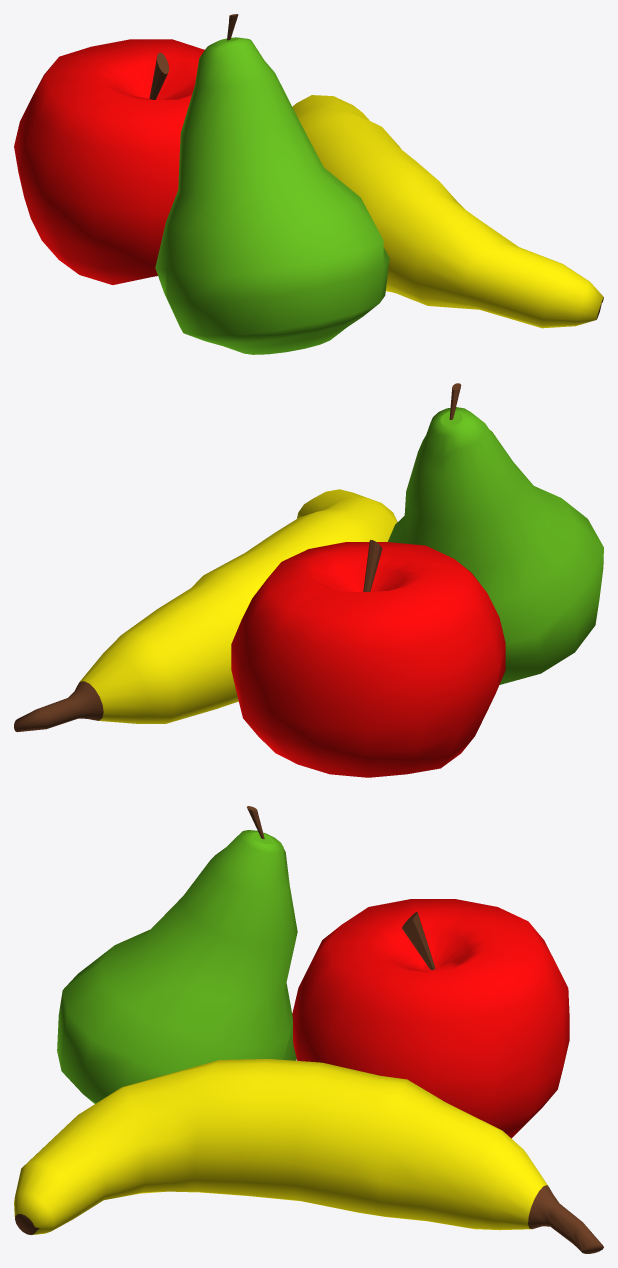
Rendered from fruit.fbx.
3 views of the same model, one above another, from view 1: azimuth 30°, elevation 25°; view 2: azimuth 150°, elevation 25°; view 3: azimuth 270°, elevation 25° (orthographic). The views are drawn at different scales.
Parts seen in each view (by area): view 1: pSphere3, pSphere1, pSphere4; view 2: pSphere1, pSphere3, pSphere4; view 3: pSphere4, pSphere1, pSphere3.
Part boxes in pixels (left/top/right/bottom): pSphere3: left=155, top=14, right=389, bottom=354; pSphere1: left=14, top=39, right=204, bottom=284; pSphere4: left=292, top=95, right=603, bottom=328; pSphere1: left=231, top=540, right=505, bottom=777; pSphere3: left=388, top=383, right=603, bottom=684; pSphere4: left=14, top=489, right=397, bottom=732; pSphere4: left=14, top=1059, right=603, bottom=1253; pSphere1: left=292, top=899, right=569, bottom=1138; pSphere3: left=57, top=806, right=297, bottom=1103.
Size of the model in its own units: 3.57 by 2.65 by 4.43.
Materials: 1 (1 with a texture image).
